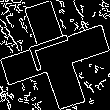L_E: (26, 32, 84, 78)
